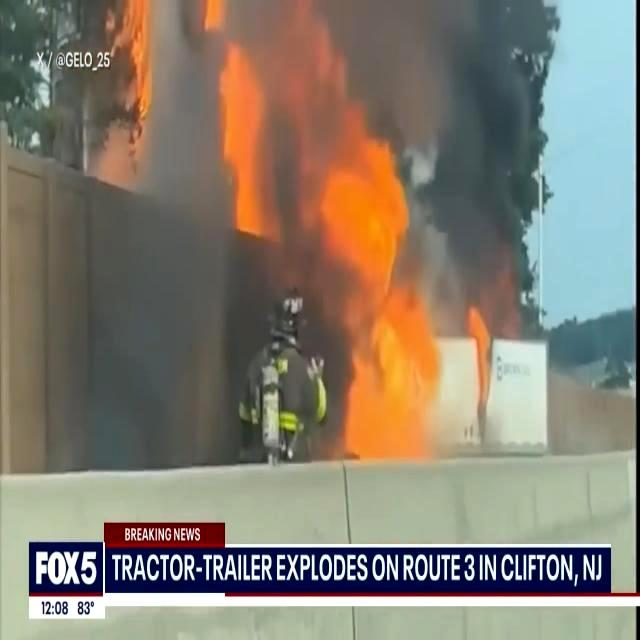fire: (326, 112, 446, 454), (212, 23, 268, 216), (118, 0, 174, 120), (203, 0, 227, 36)
